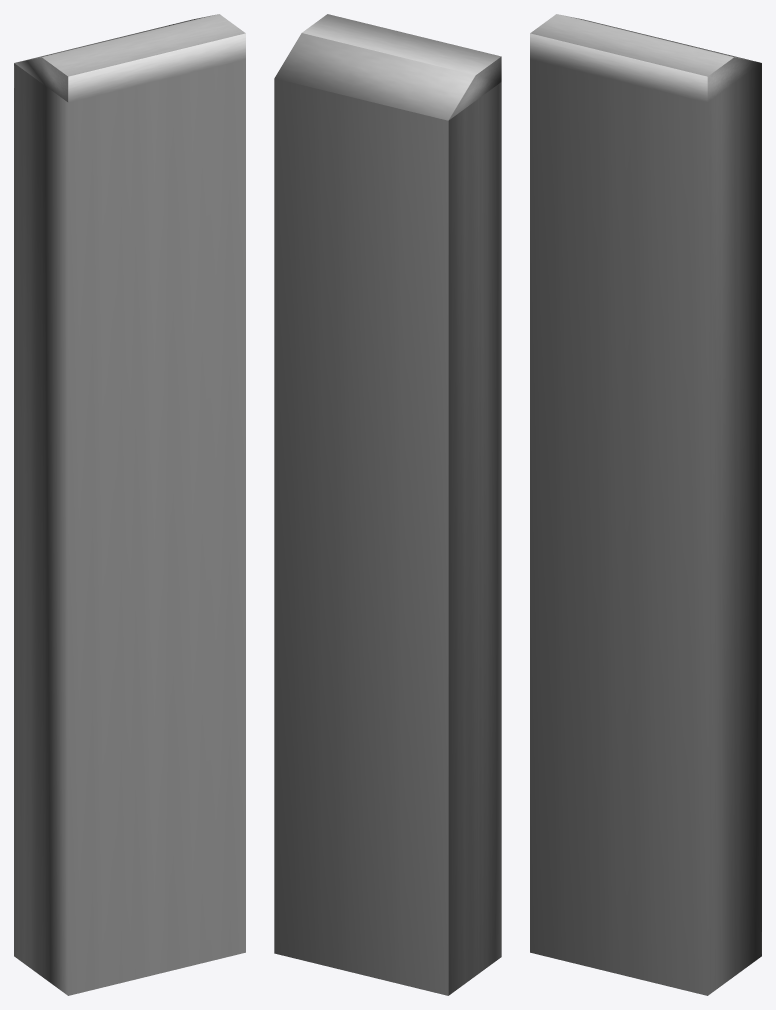
The model's file is stageblackmetal.obj.
The picture shows the model from 3 angles, left to right: view 1: azimuth 30°, elevation 25°; view 2: azimuth 150°, elevation 25°; view 3: azimuth 330°, elevation 25°; orthographic projection. The views are drawn at different scales.
Visible parts, largest first — view 1: stageblackmetal; view 2: stageblackmetal; view 3: stageblackmetal.
Boxes of the visible parts, left/top/right/bottom form: stageblackmetal: left=14, top=14, right=245, bottom=995; stageblackmetal: left=274, top=14, right=501, bottom=995; stageblackmetal: left=530, top=14, right=761, bottom=995.
Size of the model in its own units: 22.98 by 114 by 12.15.
Materials: 1 (1 with a texture image).
